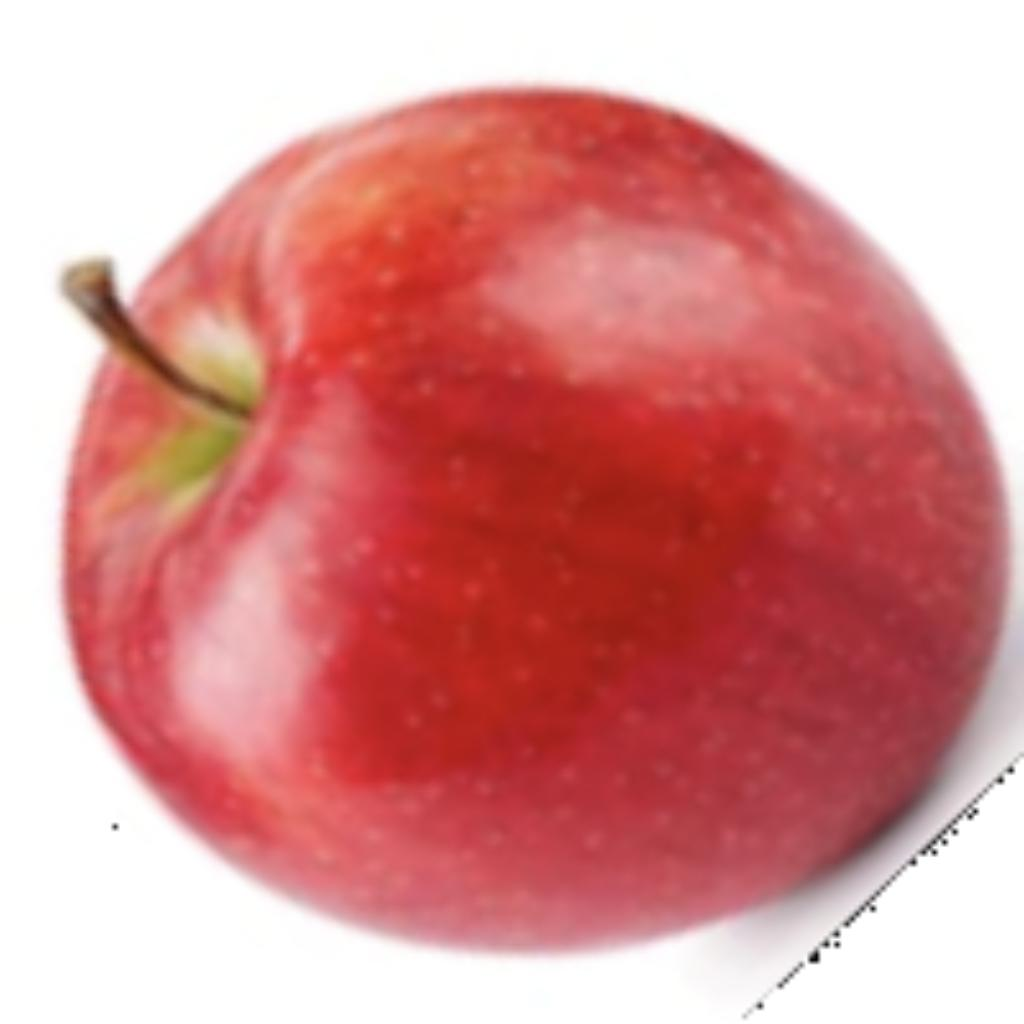apple: (46, 72, 1019, 963)
